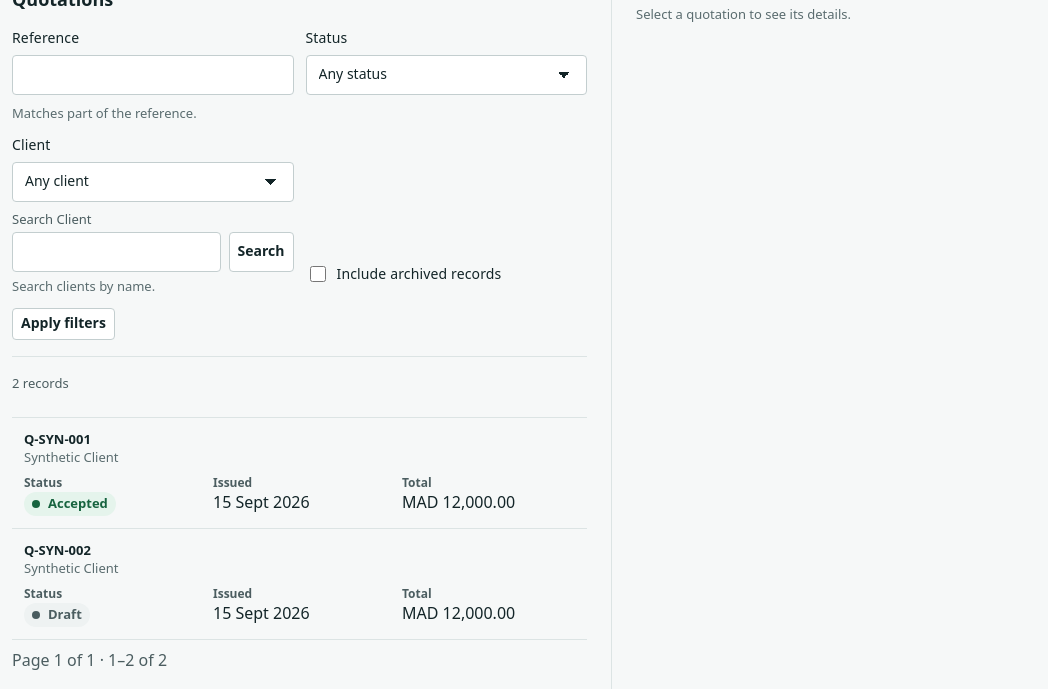
Test: CommercialPanel: lifecycle › runs Issue on a Quotations record without confirmation
(page scrolled)
Expected: the table named "Quotations" is shown, [12, 417, 587, 640]
Click the button "Q-SYN-002".
click(57, 550)  # box [24, 541, 91, 559]
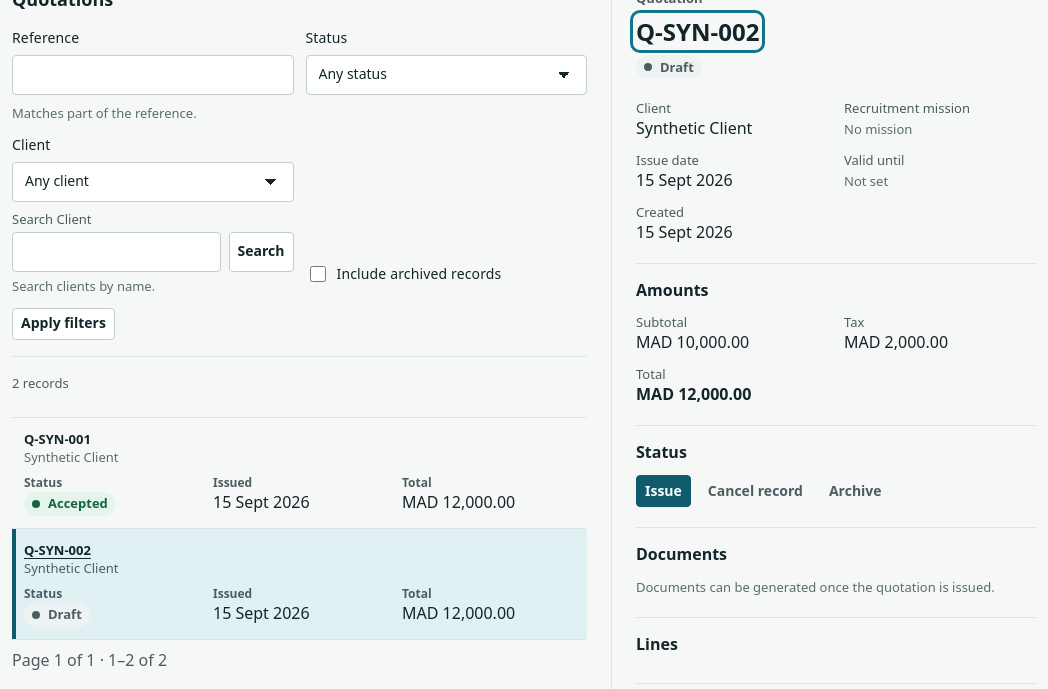
Now the heading "Q-SYN-002" is shown, box [636, 16, 760, 48]
Click the button "Issue".
click(663, 491)  # box [636, 475, 691, 507]
(page scrolled)
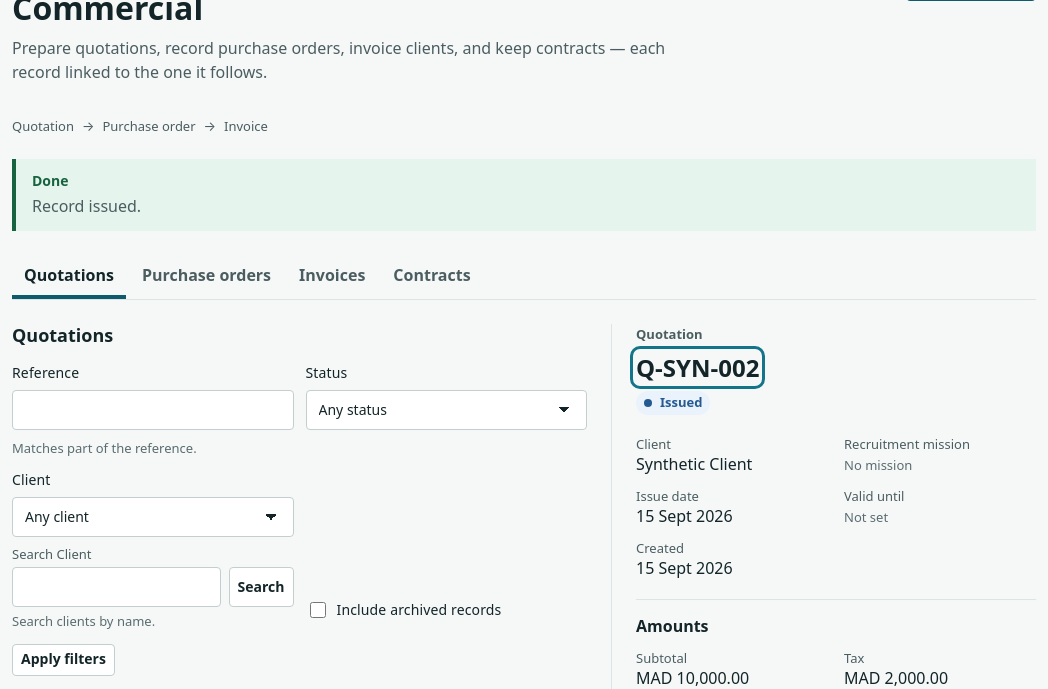
Now the text "Record issued." is shown, box [32, 195, 141, 217]
